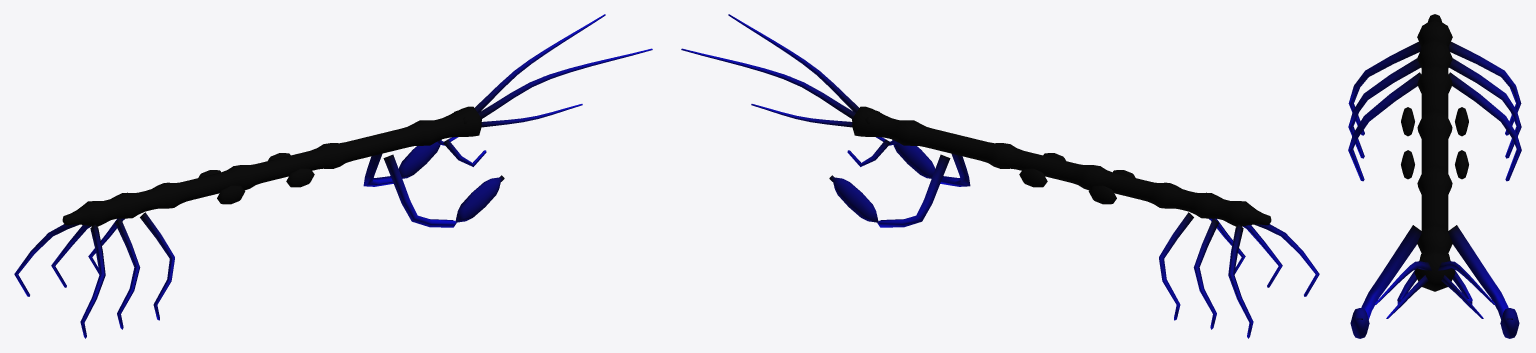
Rendered from micro_caprellid.glb.
3 views of the same model, side by side, from view 1: azimuth 30°, elevation 25°; view 2: azimuth 150°, elevation 25°; view 3: azimuth 270°, elevation 25° (orthographic). The views are drawn at different scales.
Parts seen in each view (by area): view 1: Body, Legs, Antennae; view 2: Body, Legs, Antennae; view 3: Legs, Body, Antennae.
Boxes of the visible parts, x1,y1,x2,y2 form: Body: (62, 106, 481, 226); Legs: (14, 137, 504, 338); Antennae: (475, 14, 652, 127); Body: (852, 106, 1271, 226); Legs: (829, 137, 1319, 338); Antennae: (681, 14, 858, 127); Legs: (1348, 41, 1521, 338); Body: (1401, 14, 1468, 291); Antennae: (1374, 261, 1495, 318).
Size of the model in its own units: 1.42 by 0.344 by 0.2899.
2 materials, 1 textured.
